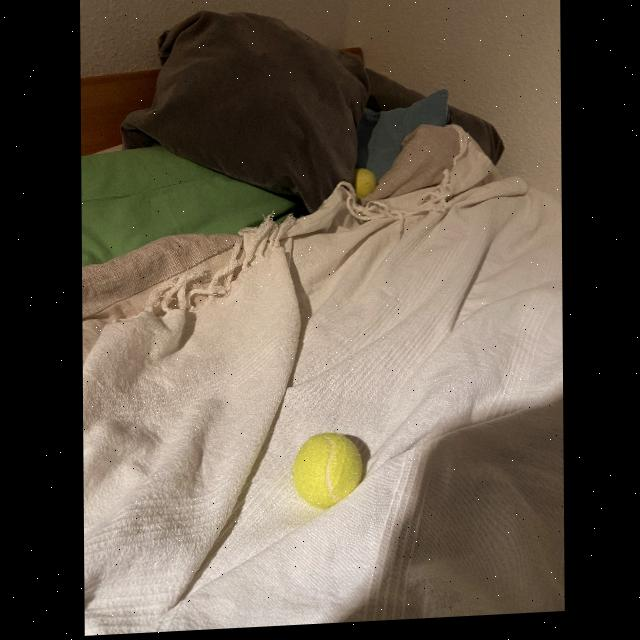Tennisball: (293, 433, 362, 509), (353, 168, 377, 199)
